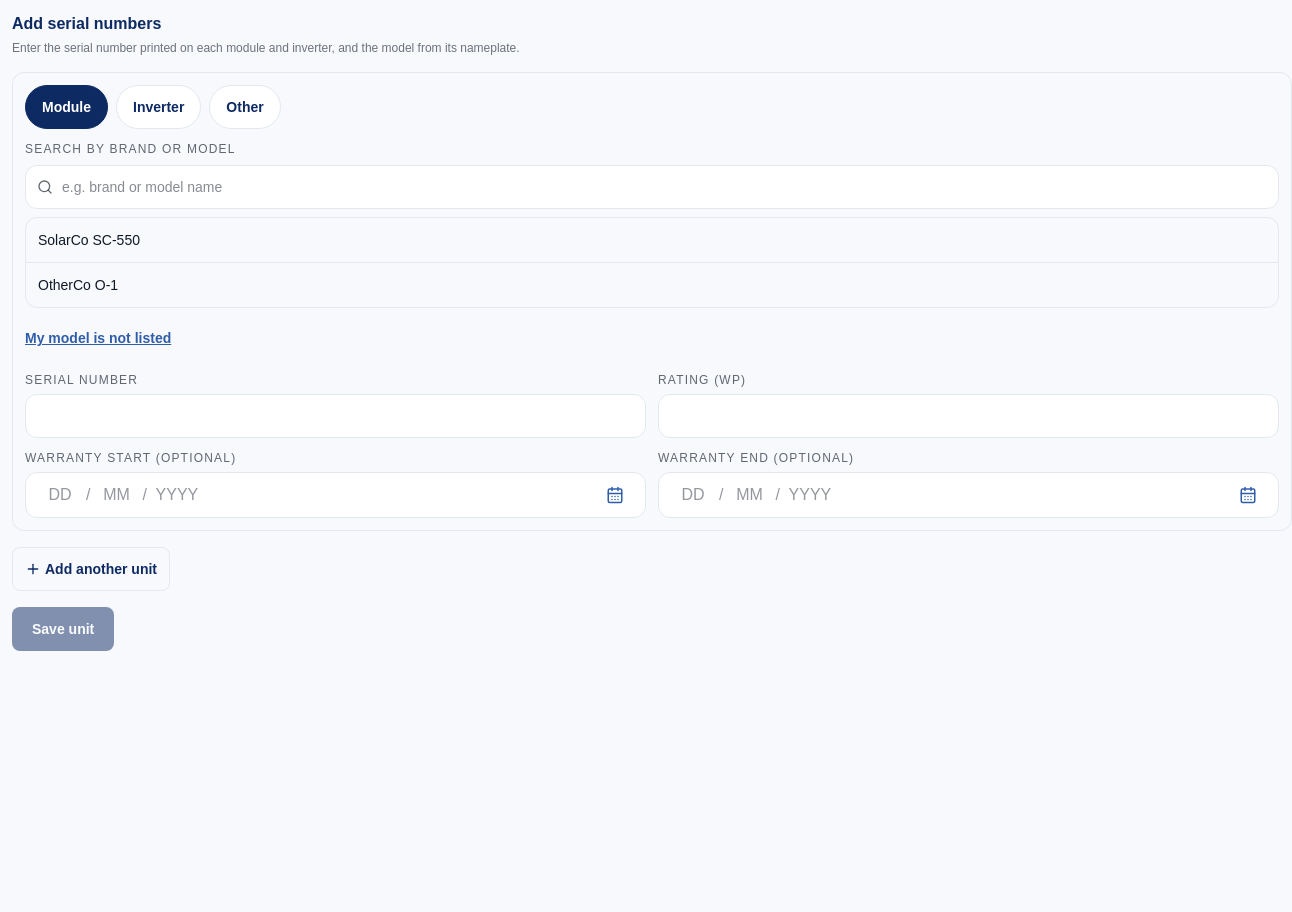
it: RegisterEntry — listed model › shows rating_out_of_range as advice after a successful save
Click the button "SolarCo SC-550": (63, 240) [26,218,1278,262]
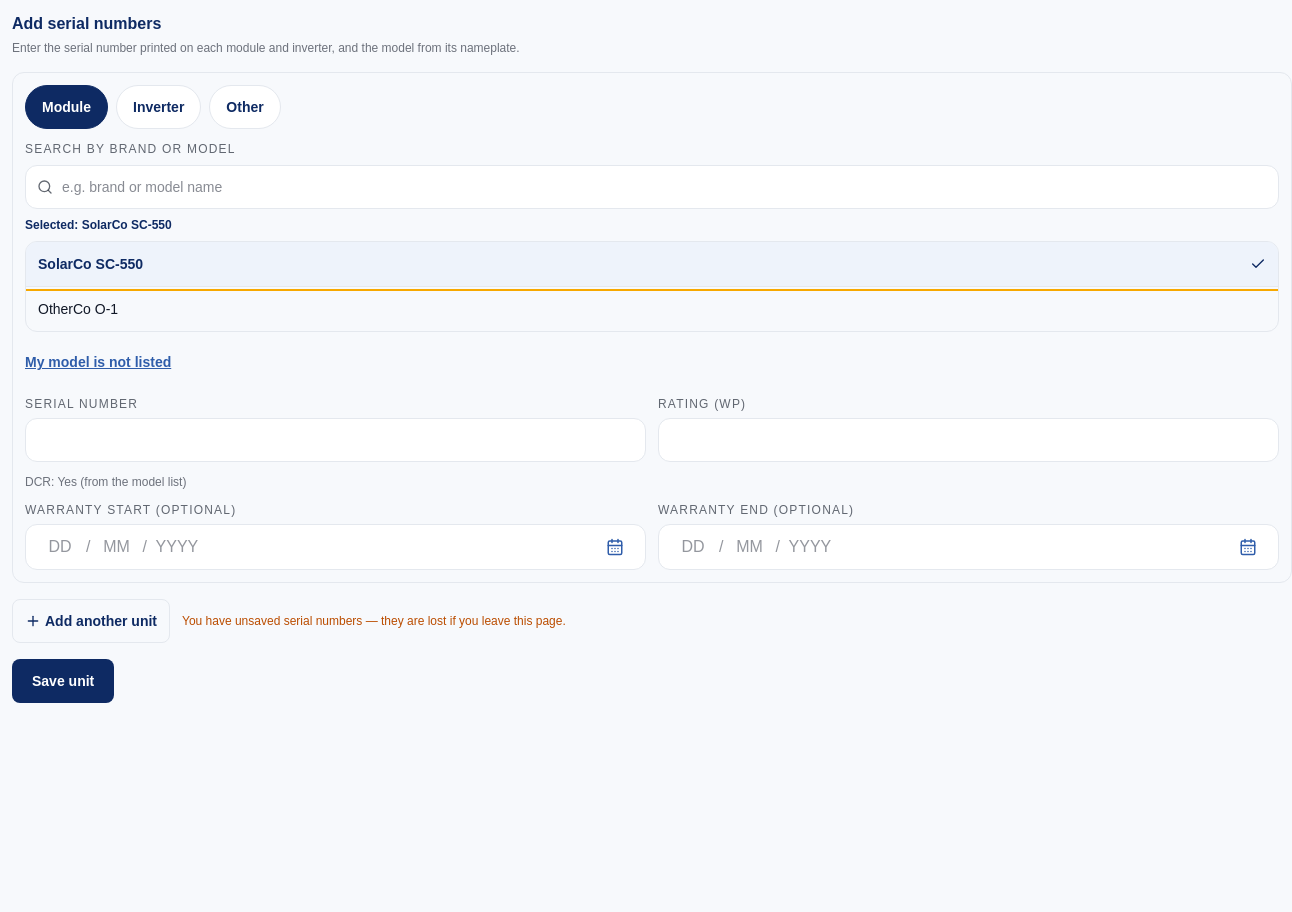
In the field labelled "Serial number": (336, 440) [25,418,646,462], type "SN-1"
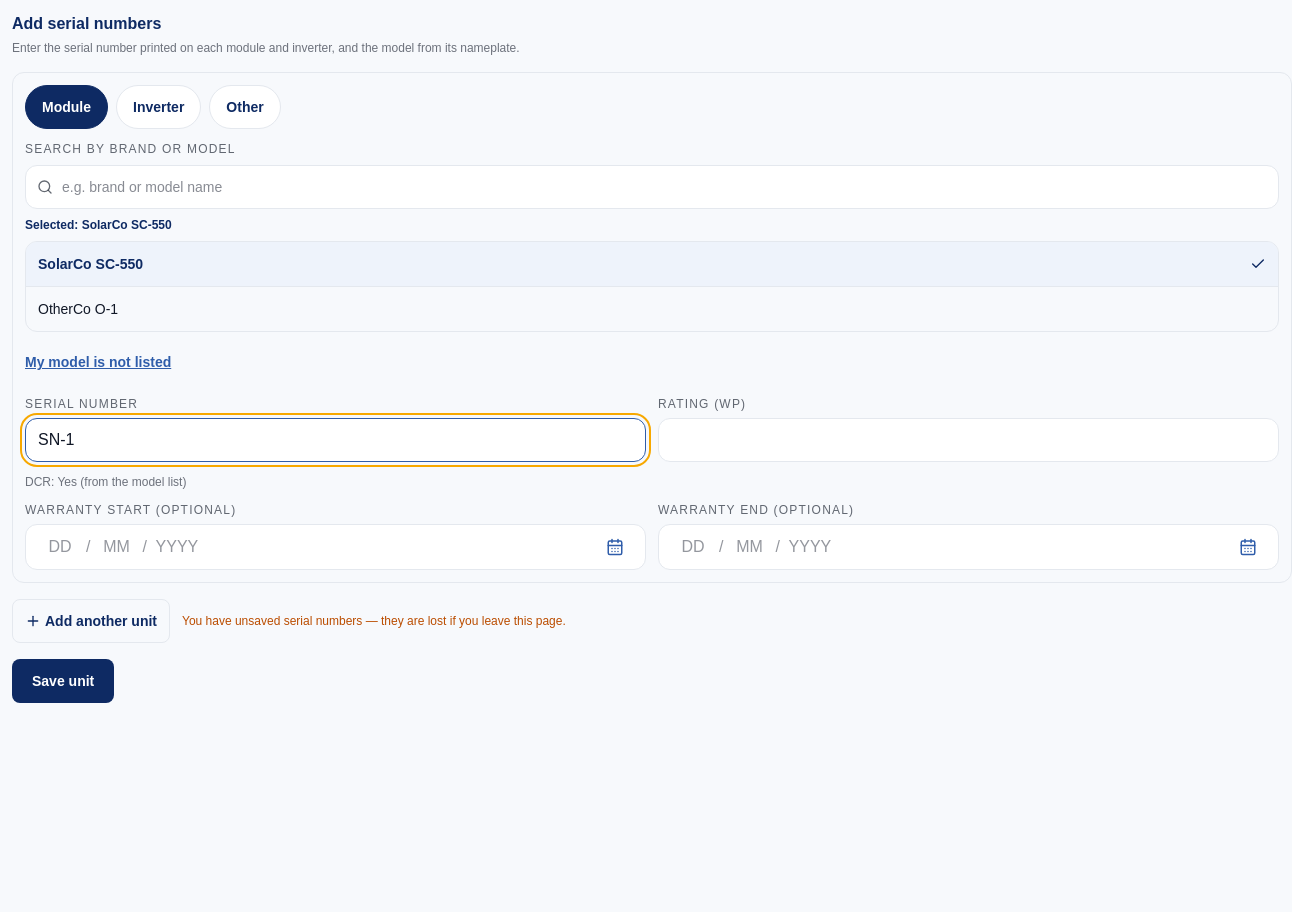
In the field labelled "Rating (Wp)": (968, 440) [658,418,1279,462], type "5500"
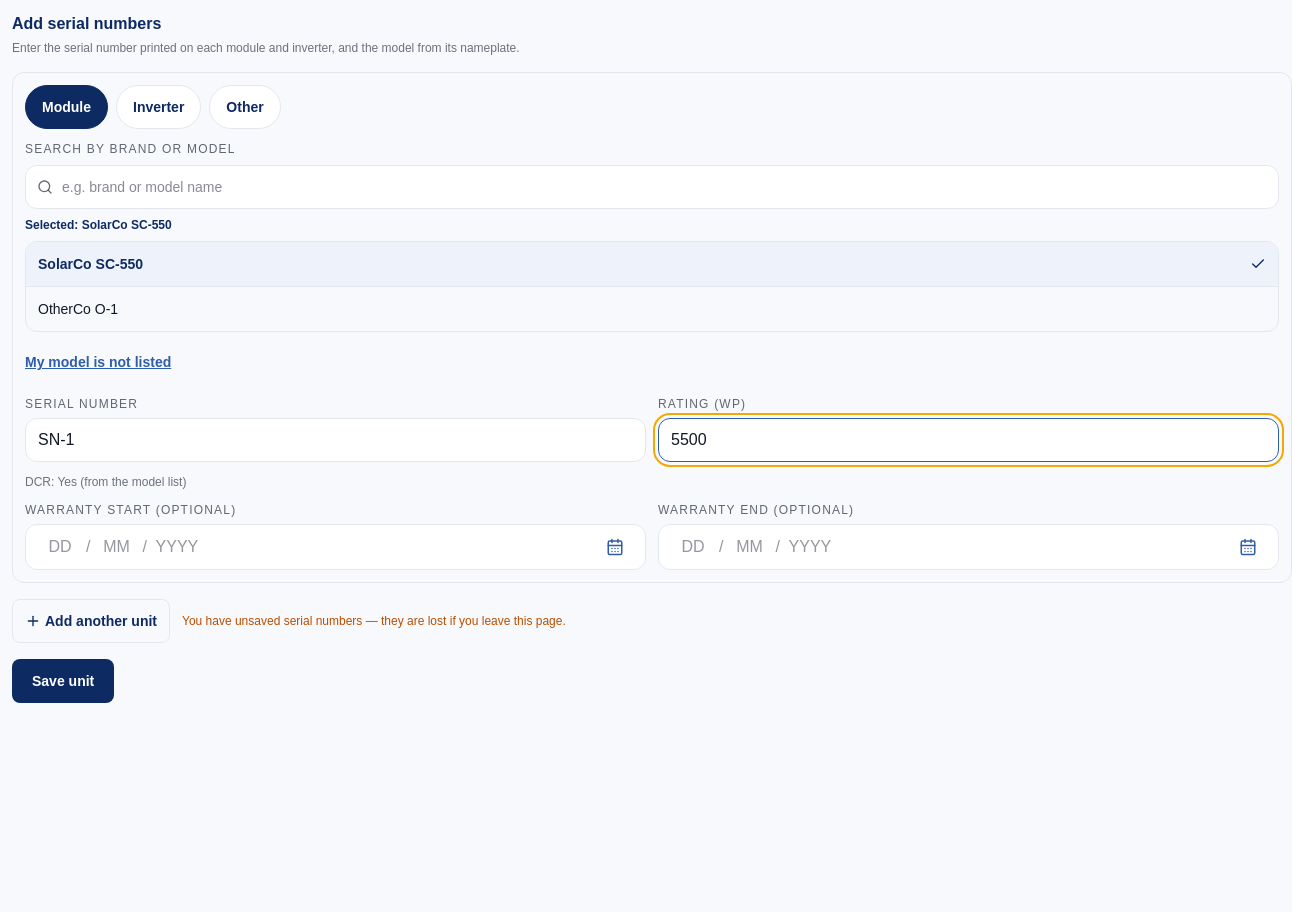
Click the button "Save unit": (63, 681) [12,659,114,703]
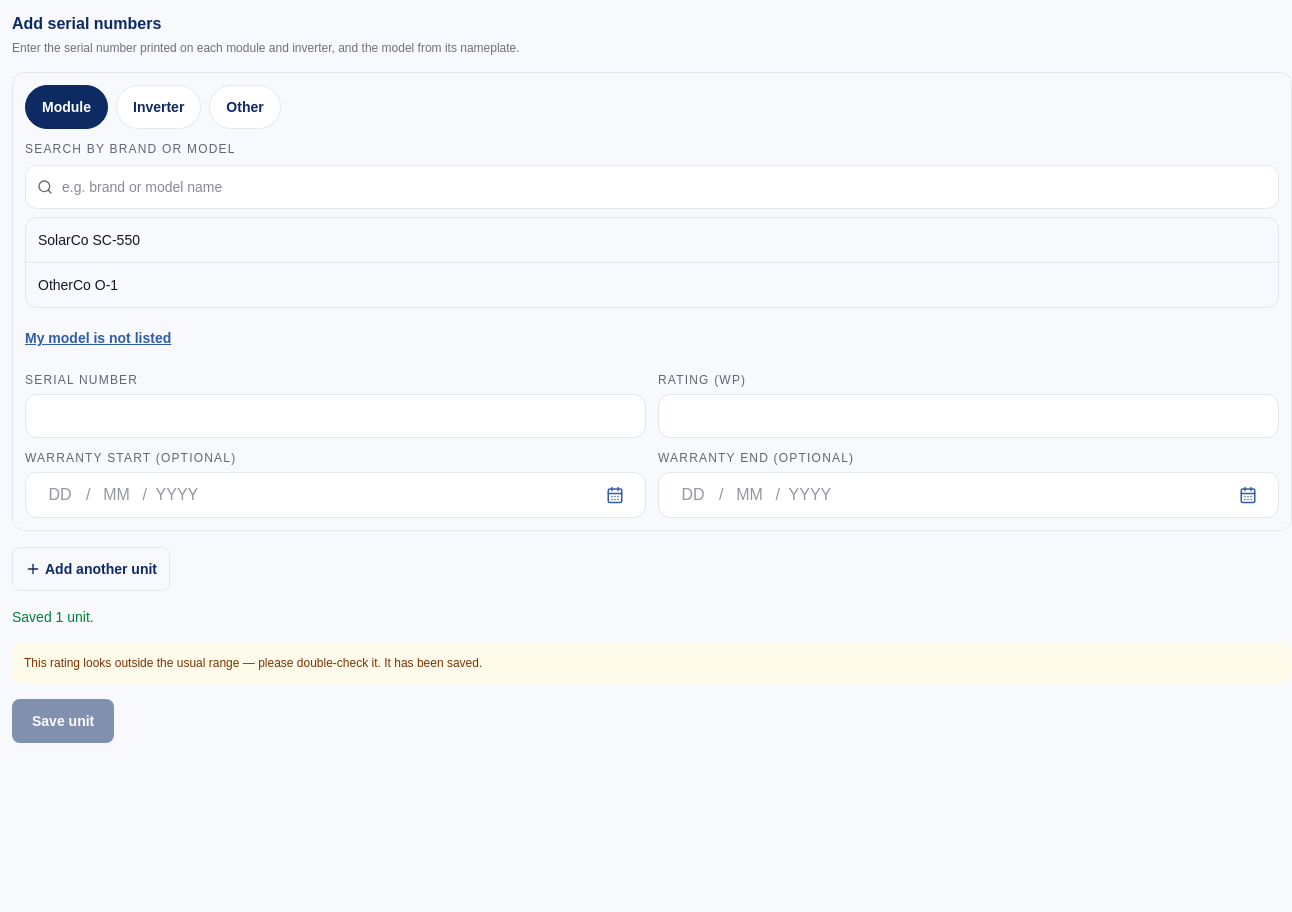
Expected: the list with test id "register-warnings" shows "This rating looks outside the usual range — please double-check it. It has been saved.", [24,656,482,670]
Expected: the text "Saved 1 unit." is shown, [12,609,94,625]
